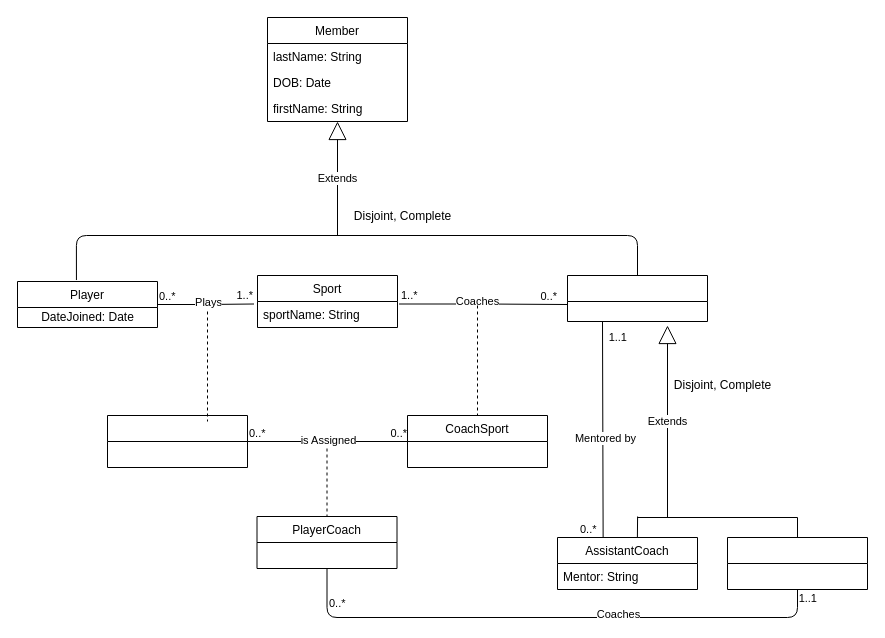
This 885x638 diagram has some shape labels left out. The centre of each missing label's shape, as x and y in pixels:
"Coach" goes at [637,298].
"HeadCoach" goes at [797,563].
"PlayerSport" goes at [177,441].
